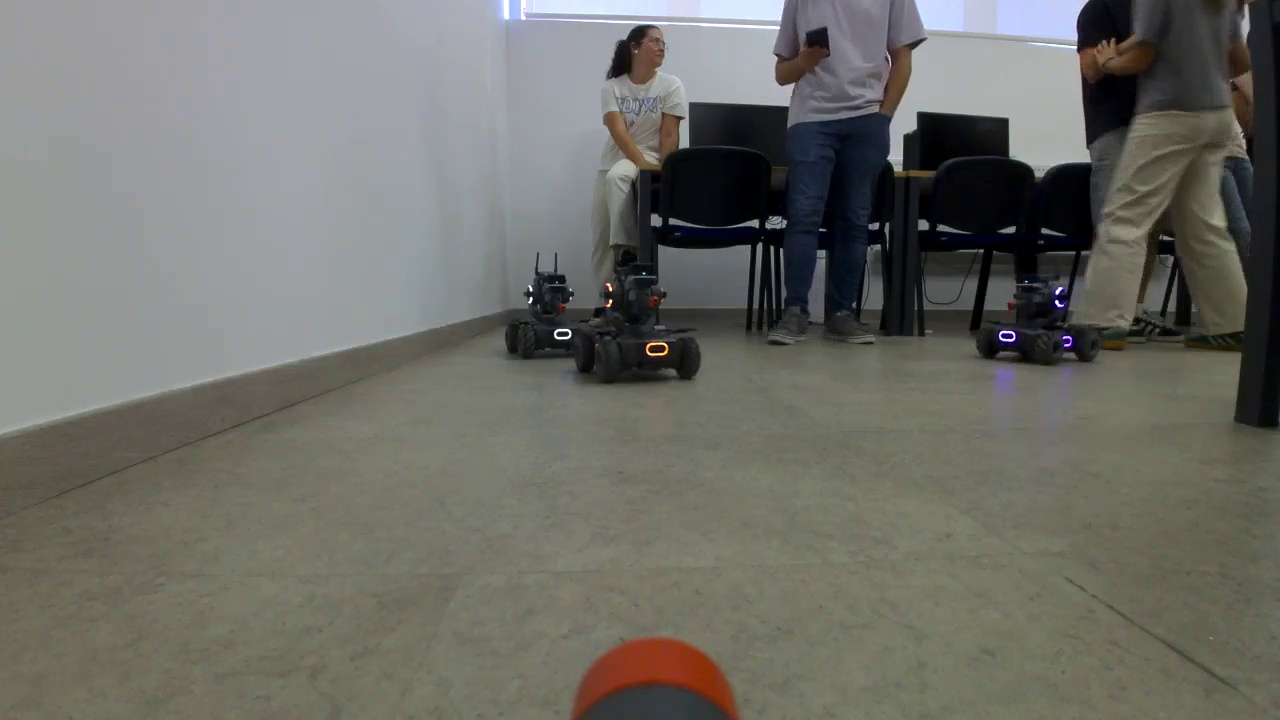robot: (593, 277, 695, 387), (978, 277, 1085, 372), (503, 270, 585, 357)
